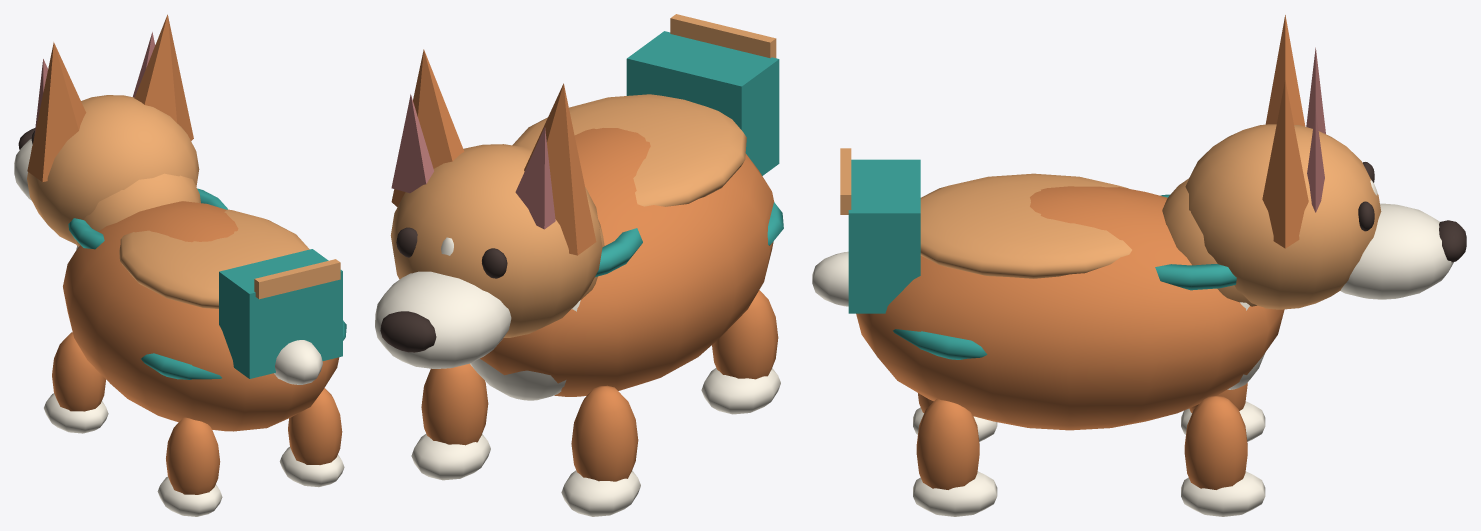
File: pembroke-corgi.glb
The picture shows the model from 3 angles, left to right: view 1: azimuth 30°, elevation 25°; view 2: azimuth 150°, elevation 25°; view 3: azimuth 270°, elevation 25°; orthographic projection. The views are drawn at different scales.
Parts seen in each view (by area): view 1: Long low body, Head, Backpack, Back fur, Upright ear -1, hind-left-leg fur, Neck, Upright ear 1, hind-right-leg fur, front-left-leg fur, Pack flap, Short white tail (+6 smaller); view 2: Long low body, Head, Back fur, Backpack, Muzzle, front-left-leg fur, Upright ear -1, front-right-leg fur, hind-left-leg fur, Upright ear 1, hind-left-leg paw, front-left-leg paw (+9 smaller); view 3: Long low body, Head, Back fur, Backpack, Muzzle, front-right-leg fur, hind-right-leg fur, Upright ear 1, Neck, hind-right-leg paw, front-right-leg paw, Upright ear -1 (+8 smaller).
Part boxes in pixels (box(x1,y1,x2,y2)): Long low body: box(63, 201, 339, 431); Head: box(27, 95, 199, 244); Backpack: box(219, 249, 342, 378); Back fur: box(119, 209, 309, 308); Upright ear -1: box(27, 42, 86, 182); hind-left-leg fur: box(166, 417, 220, 494); Neck: box(75, 173, 200, 246); Upright ear 1: box(134, 14, 193, 140); hind-right-leg fur: box(288, 388, 342, 464); front-left-leg fur: box(52, 332, 105, 411); Pack flap: box(254, 259, 340, 299); Short white tail: box(274, 340, 322, 384); Long low body: box(480, 128, 774, 396); Head: box(390, 144, 602, 337); Back fur: box(512, 94, 746, 206); Backpack: box(626, 31, 779, 175); Muzzle: box(375, 271, 511, 368); front-left-leg fur: box(571, 385, 638, 481); Upright ear -1: box(524, 83, 596, 255); front-right-leg fur: box(421, 363, 488, 445); hind-left-leg fur: box(712, 290, 778, 379); Upright ear 1: box(391, 49, 464, 206); hind-left-leg paw: box(701, 368, 780, 414); front-left-leg paw: box(561, 470, 640, 516); Long low body: box(856, 186, 1284, 430); Head: box(1185, 124, 1381, 309); Back fur: box(920, 173, 1131, 278); Backpack: box(848, 159, 920, 313); Muzzle: box(1340, 203, 1453, 299); front-right-leg fur: box(1184, 395, 1247, 489); hind-right-leg fur: box(916, 399, 979, 489); Upright ear 1: box(1262, 80, 1308, 248); Neck: box(1162, 178, 1256, 306); hind-right-leg paw: box(913, 471, 997, 516); front-right-leg paw: box(1181, 471, 1265, 516); Upright ear -1: box(1265, 15, 1305, 126).
Bounding box in the file's own units: 1.04 × 1.72 × 2.37.
